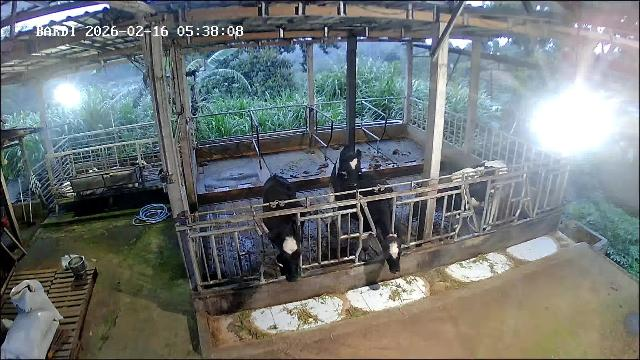mounting: (323, 145, 360, 222)
